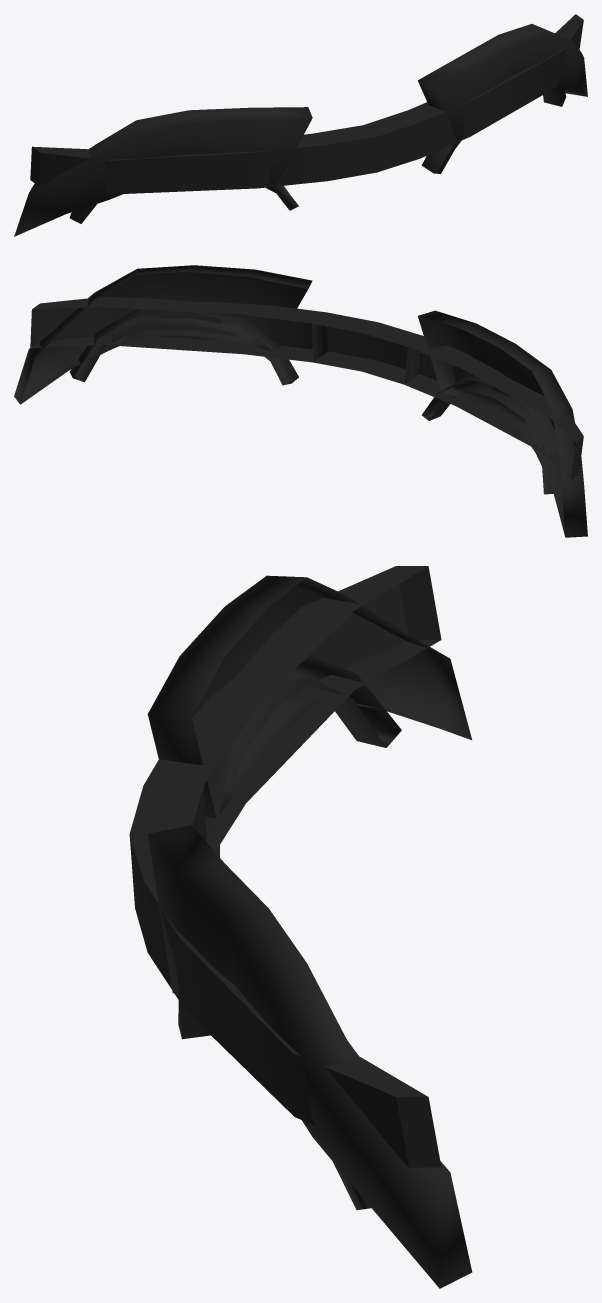
The model's file is male_brows(2).fbx.
3 renders of one model, top to bottom at view 1: azimuth 30°, elevation 25°; view 2: azimuth 150°, elevation 25°; view 3: azimuth 270°, elevation 25°, orthographic. The views are drawn at different scales.
Visible parts, largest first — view 1: brow_3, brow_2, brow_1, brow_4; view 2: brow_3, brow_4, brow_2, brow_1; view 3: brow_3, brow_2, brow_4, brow_1.
Boxes of the visible parts, left/top/right/bottom form: brow_3: left=14, top=24, right=587, bottom=236; brow_2: left=32, top=14, right=583, bottom=194; brow_1: left=69, top=90, right=566, bottom=223; brow_4: left=30, top=16, right=573, bottom=185; brow_3: left=14, top=265, right=587, bottom=537; brow_4: left=30, top=296, right=583, bottom=479; brow_2: left=30, top=299, right=583, bottom=479; brow_1: left=69, top=309, right=560, bottom=494; brow_3: left=147, top=575, right=472, bottom=1288; brow_2: left=129, top=566, right=441, bottom=1166; brow_4: left=143, top=566, right=441, bottom=1167; brow_1: left=178, top=654, right=401, bottom=1210.
Size of the model in its own units: 6.77 by 1.42 by 1.75.
1 material, 1 textured.
